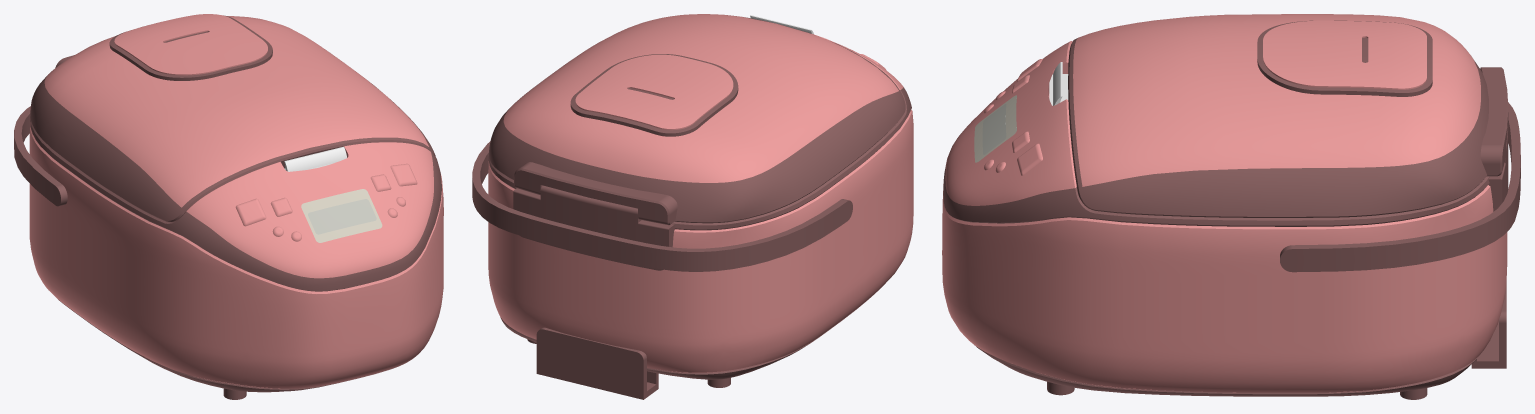
Rendered from 080_炊飯器閉.glb.
3 views of the same model, side by side, from view 1: azimuth 30°, elevation 25°; view 2: azimuth 150°, elevation 25°; view 3: azimuth 270°, elevation 25° (orthographic). The views are drawn at different scales.
Parts seen in each view (by area): view 1: body, 蓋, 持ち手; view 2: 蓋, body, 持ち手; view 3: body, 蓋, 持ち手.
Boxes of the visible parts, <box> form: body: <box>29,115,443,399</box>; 蓋: <box>30,14,435,221</box>; 持ち手: <box>14,106,67,206</box>; 蓋: <box>489,14,905,224</box>; body: <box>488,15,913,399</box>; 持ち手: <box>472,141,852,271</box>; body: <box>942,41,1508,399</box>; 蓋: <box>1068,14,1508,217</box>; 持ち手: <box>1280,102,1520,272</box>.
Size of the model in its own units: 0.244 by 0.1781 by 0.317.
